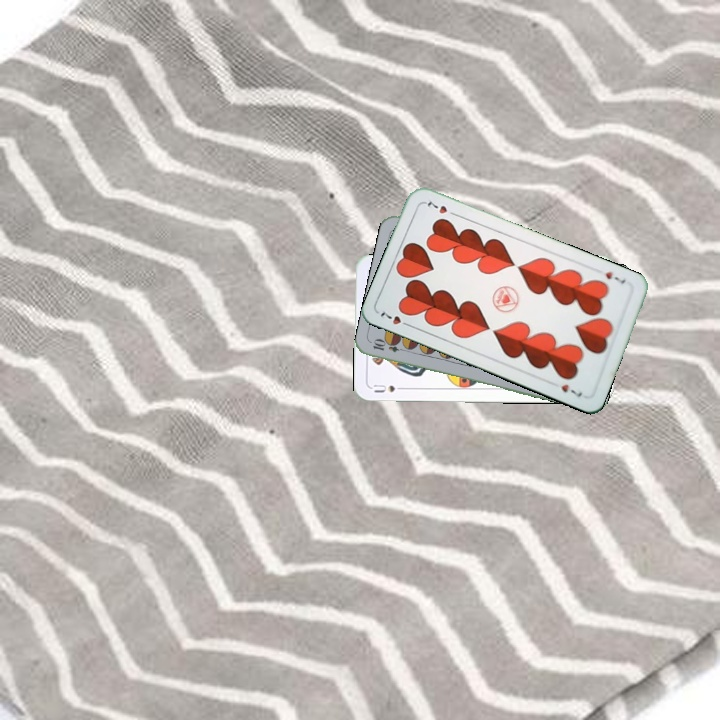E10: (369, 337, 409, 355)
H7: (376, 307, 414, 330), (601, 267, 628, 287)
SU: (369, 380, 409, 395)
